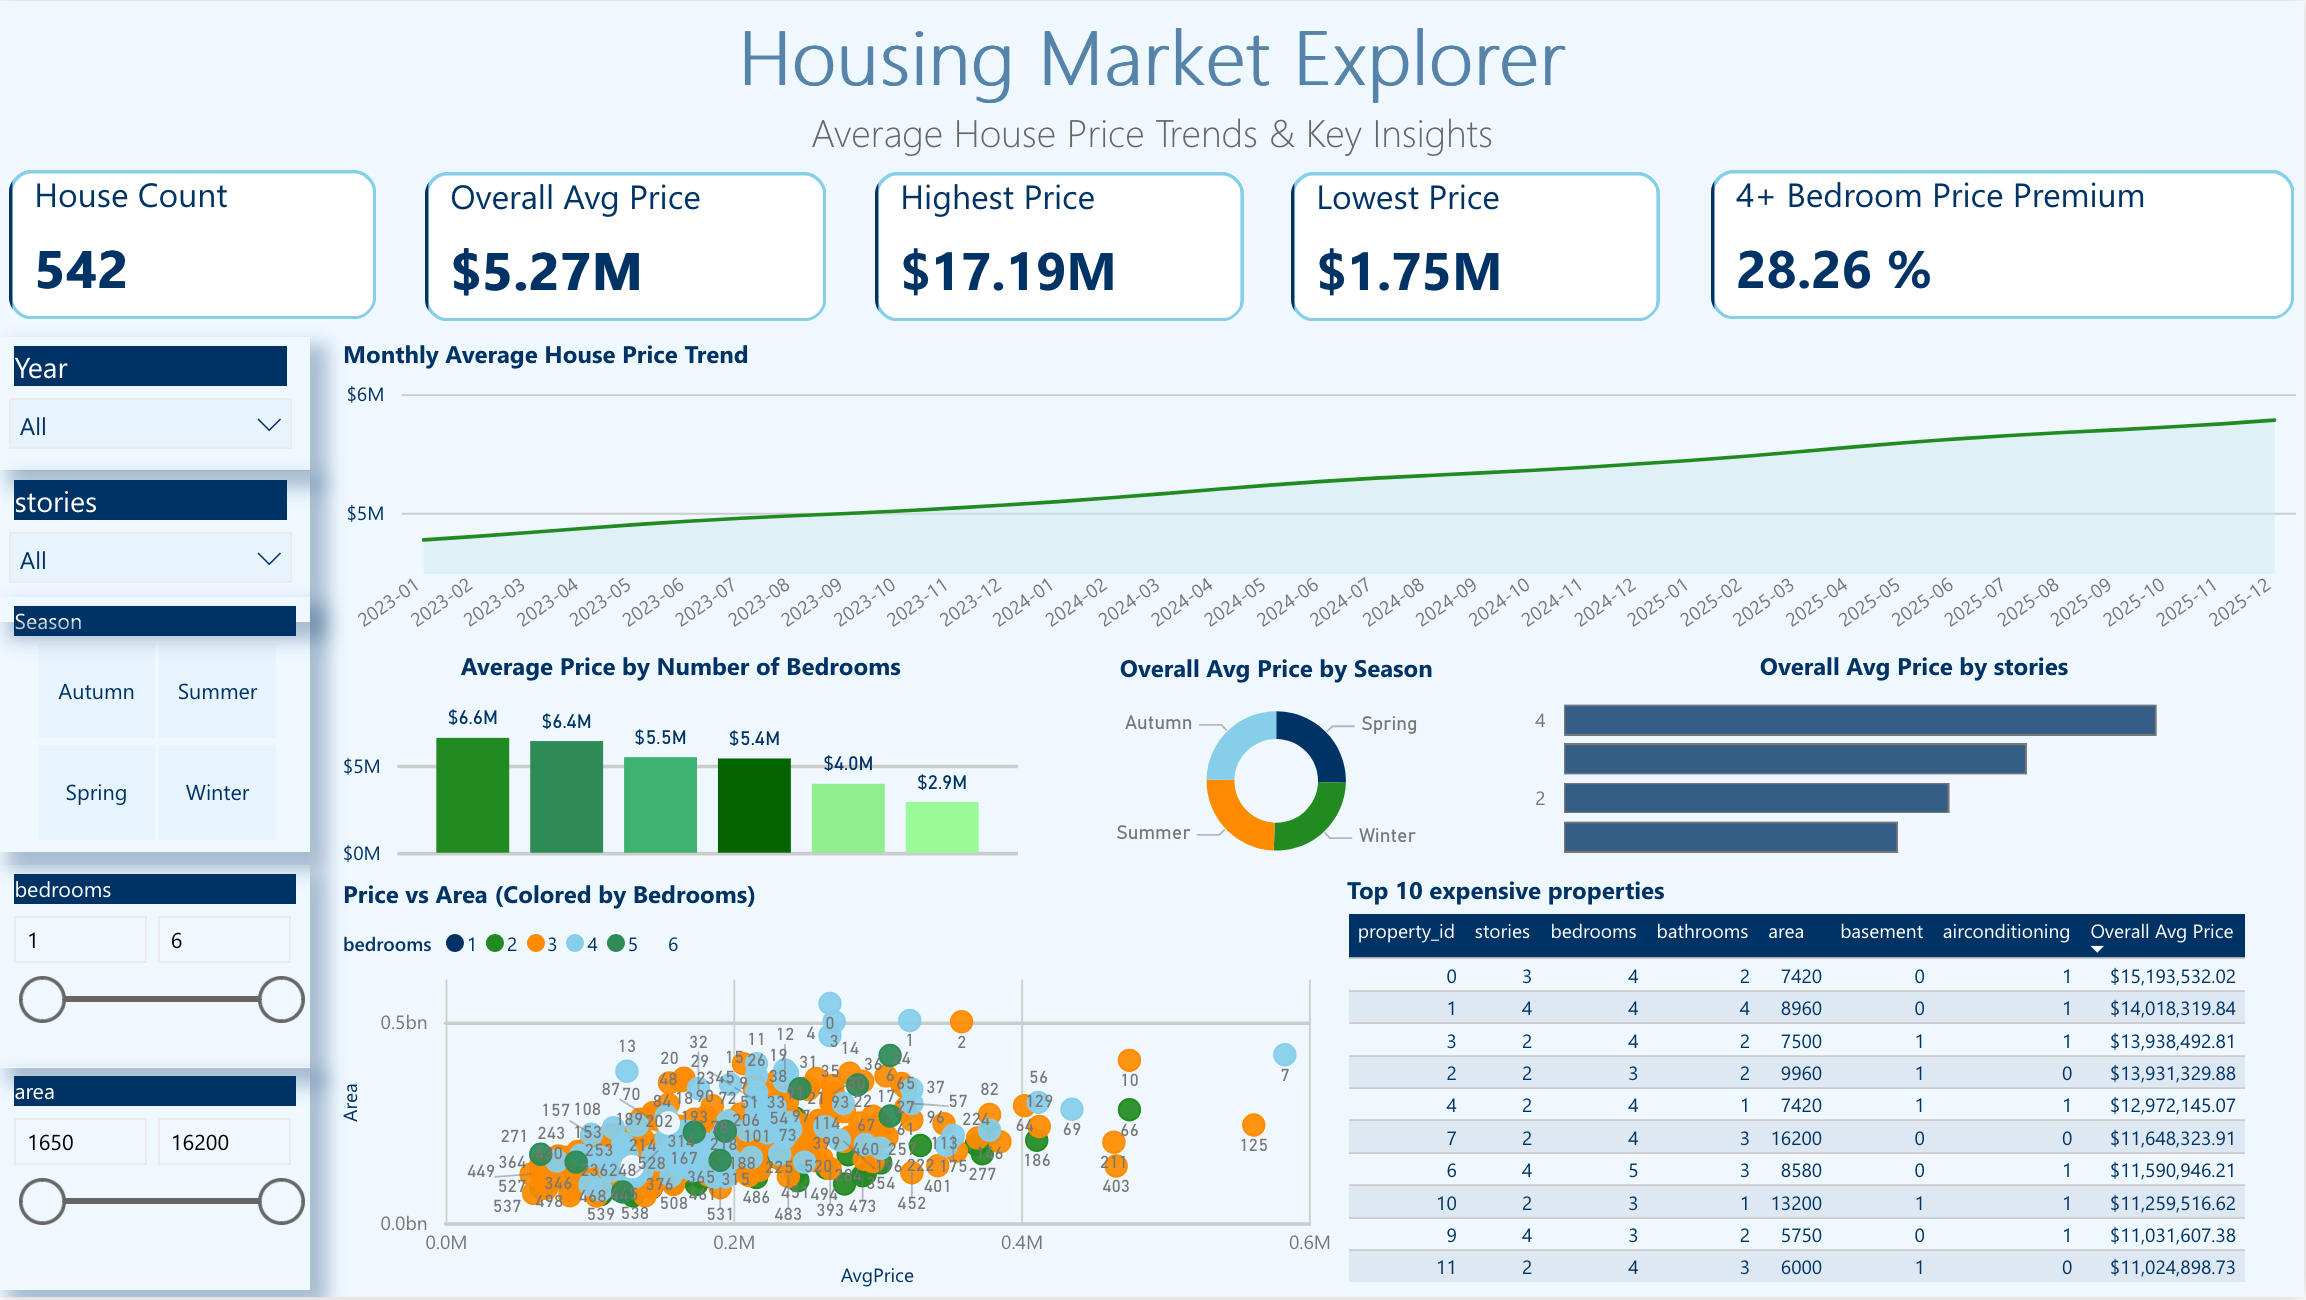

The dashboard page shown, as its layout file describes it:
{"tool":"powerbi","page":{"name":"Page 1","canvas":[1280,720],"ordinal":0},"visuals":[{"type":"textbox","box":[10,0,280,280],"z":0},{"type":"textbox","box":[0,0,1280,75.5],"z":1000},{"type":"textbox","box":[0,57.8,1280,55.4],"z":2000},{"type":"cardVisual","fields":{"Data":["factaveragehouseprice.Total Properties"]},"box":[0,88.5,214.1,93.4],"z":3000},{"type":"cardVisual","fields":{"Data":["factaveragehouseprice.Overall Avg Price"]},"box":[230.8,90.2,233.5,93.4],"z":4000},{"type":"cardVisual","fields":{"Data":["factaveragehouseprice.Highest Avg Price"]},"box":[481,90.2,215,93.4],"z":5000},{"type":"cardVisual","fields":{"Data":["factaveragehouseprice.Lowest Avg Price"]},"box":[712.7,90.2,215.8,93.4],"z":6000},{"type":"lineChart","title":"Monthly Average House Price Trend","fields":{"Category":["dimdate.DateKey"],"Y":["factaveragehouseprice.Overall Avg Price"]},"box":[185.2,186.8,1094.8,173.9],"z":7000},{"type":"clusteredColumnChart","title":"Average Price by Number of Bedrooms","fields":{"Category":["dimhouse.bedrooms"],"Y":["factaveragehouseprice.Overall Avg Price"]},"box":[185.7,360,385.2,127.4],"z":8000},{"type":"barChart","fields":{"Category":["dimhouse.stories"],"Y":["factaveragehouseprice.Overall Avg Price"]},"box":[846.7,360,433.3,118.4],"z":9000},{"type":"scatterChart","title":"Price vs Area (Colored by Bedrooms)","fields":{"X":["Sum(factaveragehouseprice.AverageArea)"],"Y":["Sum(factaveragehouseprice.AveragePrice)"],"Category":["dimhouse.property_id"],"Series":["dimhouse.bedrooms"]},"box":[185.2,486.2,558.7,233.5],"z":10000},{"type":"donutChart","fields":{"Category":["dimdate.Season"],"Y":["factaveragehouseprice.Overall Avg Price"]},"box":[570.9,360.6,275.8,126.8],"z":11000},{"type":"tableEx","title":"Top 10 expensive properties","fields":{"Values":["dimhouse.property_id","dimhouse.stories","dimhouse.bedrooms","dimhouse.bathrooms","dimhouse.area","dimhouse.basement","dimhouse.airconditioning","factaveragehouseprice.Overall Avg Price"]},"box":[743.9,484.6,536.1,235.1],"z":12000},{"type":"slicer","fields":{"Values":["dimhouse.bedrooms"]},"box":[0,479.8,172.3,112.7],"z":13000},{"type":"slicer","fields":{"Values":["dimdate.Year"]},"box":[0,186.8,172.3,74.1],"z":14000},{"type":"slicer","fields":{"Values":["dimdate.Season"]},"box":[0,331.4,172.4,141.7],"z":15000},{"type":"slicer","fields":{"Values":["dimhouse.area"]},"box":[0,592.5,172.3,124],"z":16000},{"type":"slicer","fields":{"Values":["dimhouse.stories"]},"box":[0,260.8,172.3,83.7],"z":17000},{"type":"cardVisual","fields":{"Data":["factaveragehouseprice.4+ Bedroom Price Premium"]},"box":[945.1,88.5,334.9,93.4],"z":18000}]}

Visuals, with their boxes in screenshot pixels (x1, y1, x2, y2), scaled from the page's 1280x720 canvas onto the 2306x1300 screenshot:
textbox: x1=18 y1=0 x2=522 y2=506
textbox: x1=0 y1=0 x2=2305 y2=136
textbox: x1=0 y1=104 x2=2305 y2=204
cardVisual - factaveragehouseprice.Total Properties: x1=0 y1=160 x2=386 y2=328
cardVisual - factaveragehouseprice.Overall Avg Price: x1=416 y1=163 x2=836 y2=332
cardVisual - factaveragehouseprice.Highest Avg Price: x1=867 y1=163 x2=1254 y2=332
cardVisual - factaveragehouseprice.Lowest Avg Price: x1=1284 y1=163 x2=1673 y2=332
"Monthly Average House Price Trend" lineChart: x1=334 y1=337 x2=2305 y2=651
"Average Price by Number of Bedrooms" clusteredColumnChart: x1=335 y1=650 x2=1029 y2=880
barChart - dimhouse.stories x factaveragehouseprice.Overall Avg Price: x1=1525 y1=650 x2=2305 y2=864
"Price vs Area (Colored by Bedrooms)" scatterChart: x1=334 y1=878 x2=1340 y2=1299
donutChart - dimdate.Season x factaveragehouseprice.Overall Avg Price: x1=1029 y1=651 x2=1525 y2=880
"Top 10 expensive properties" tableEx: x1=1340 y1=875 x2=2305 y2=1299
slicer - dimhouse.bedrooms: x1=0 y1=866 x2=310 y2=1070
slicer - dimdate.Year: x1=0 y1=337 x2=310 y2=471
slicer - dimdate.Season: x1=0 y1=598 x2=311 y2=854
slicer - dimhouse.area: x1=0 y1=1070 x2=310 y2=1294
slicer - dimhouse.stories: x1=0 y1=471 x2=310 y2=622
cardVisual - factaveragehouseprice.4+ Bedroom Price Premium: x1=1703 y1=160 x2=2305 y2=328
